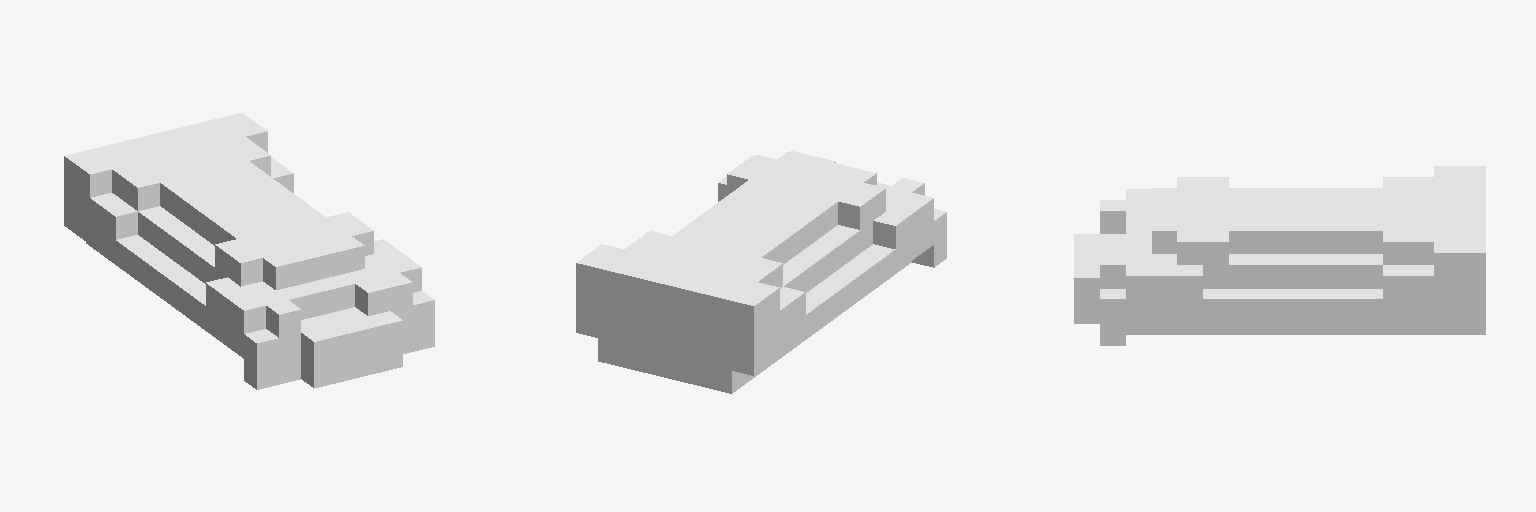
File: playerCar.obj
3 views of the same model, side by side, from view 1: azimuth 30°, elevation 25°; view 2: azimuth 150°, elevation 25°; view 3: azimuth 270°, elevation 25° (orthographic).
Visible parts, largest first — view 1: object 1; view 2: object 1; view 3: object 1.
Part boxes in pixels (x1,y1,x2,y2): object 1: (64,113,434,389); object 1: (576,151,946,393); object 1: (1074,166,1485,345).
Size of the model in its own units: 0.8 by 0.4 by 1.6.